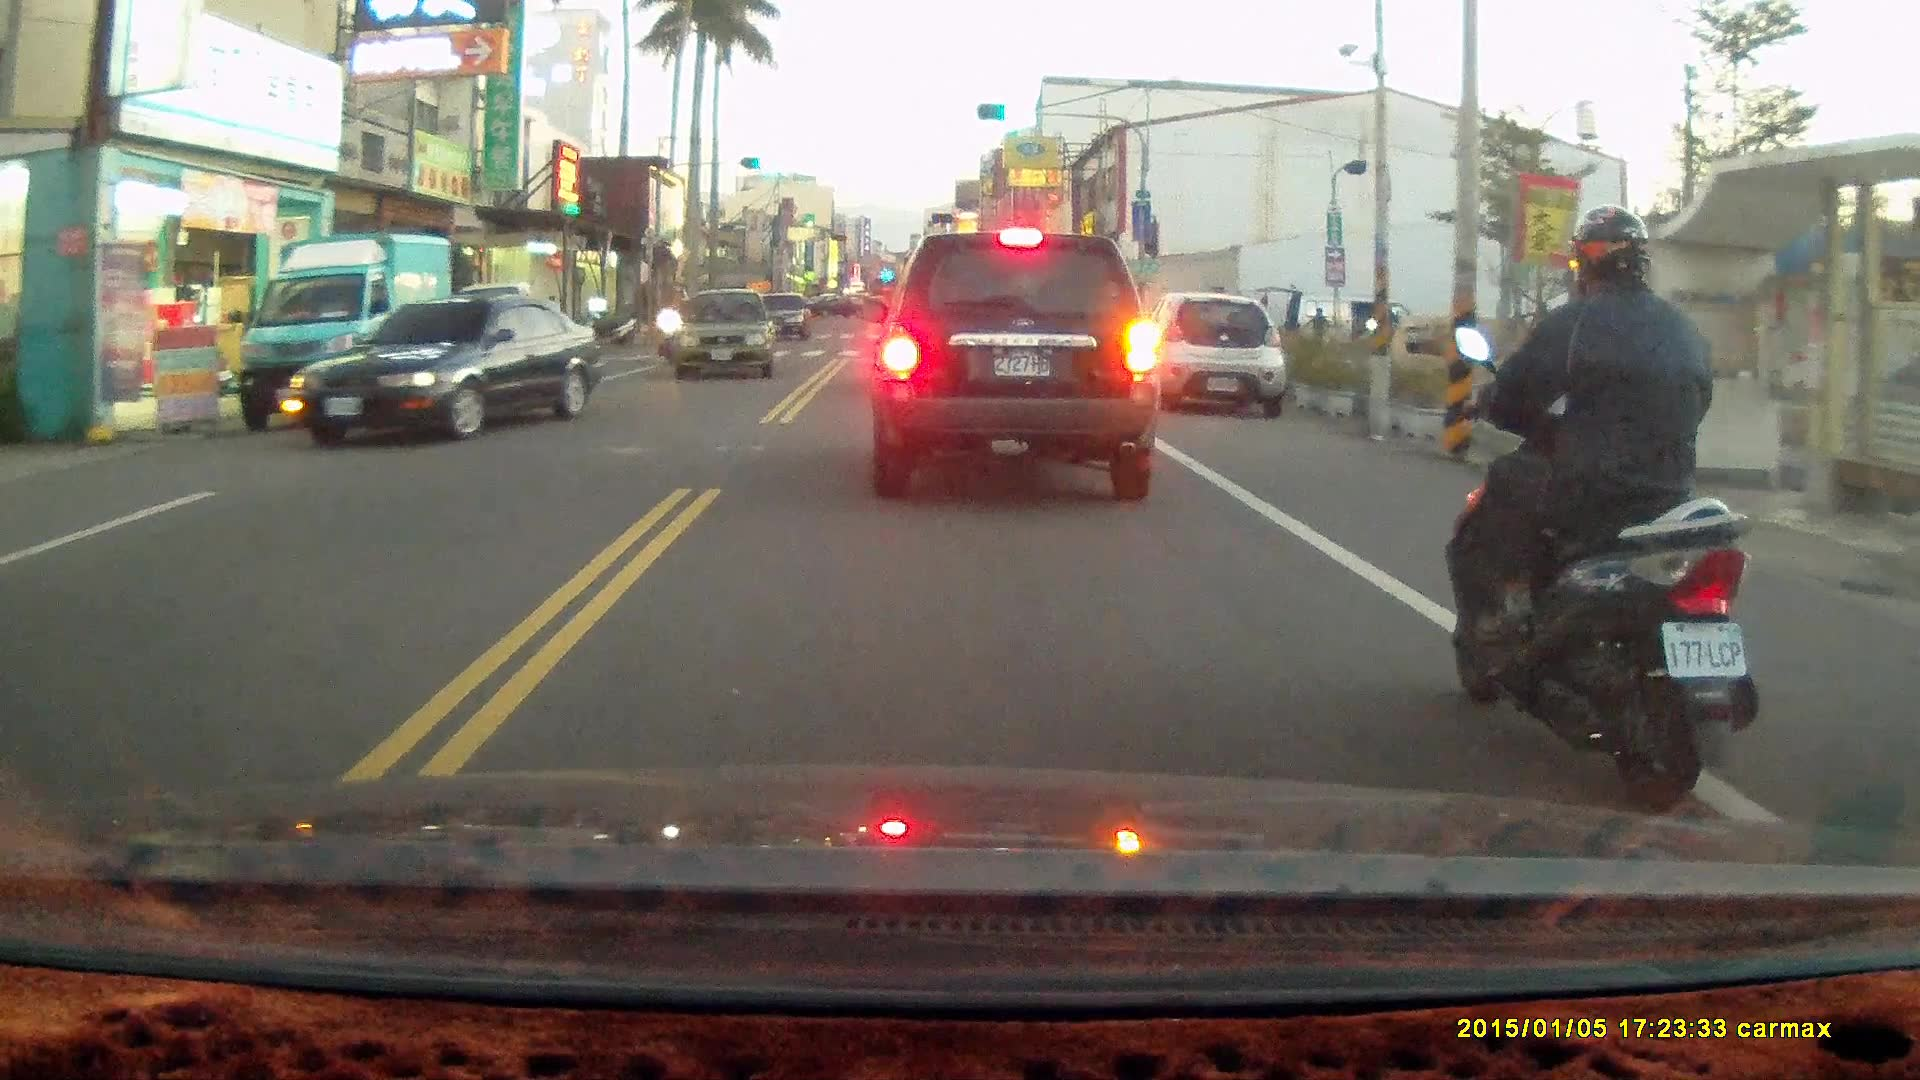rider: (1443, 199, 1758, 809), (652, 282, 691, 365)
vehicle: (869, 227, 1158, 503), (288, 291, 606, 440), (235, 231, 460, 429), (1143, 291, 1289, 420), (669, 287, 780, 384)
